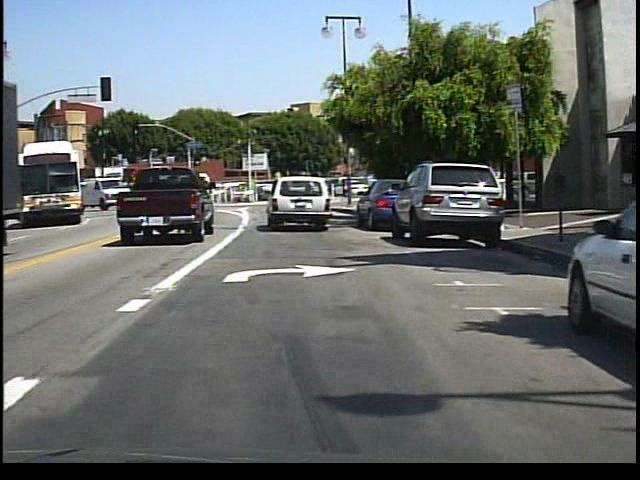person: (340, 177, 351, 204)
